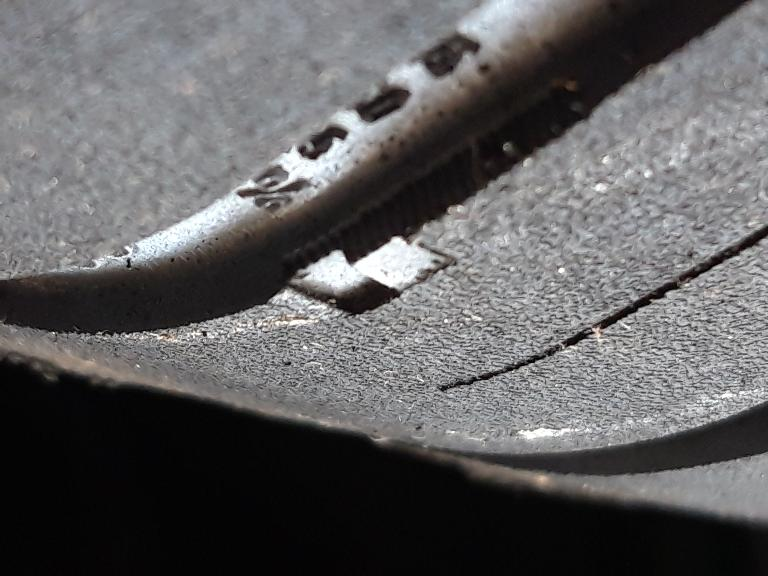temoin:25: (268, 200, 454, 342)
